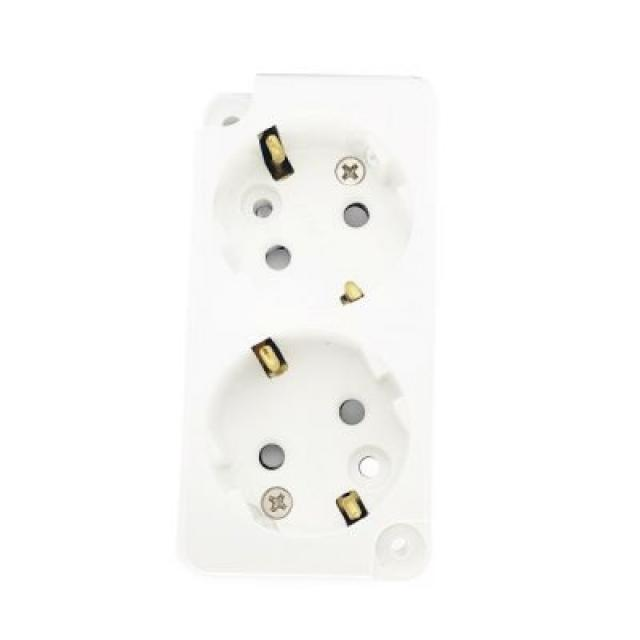typeb: (153, 24, 539, 640)
